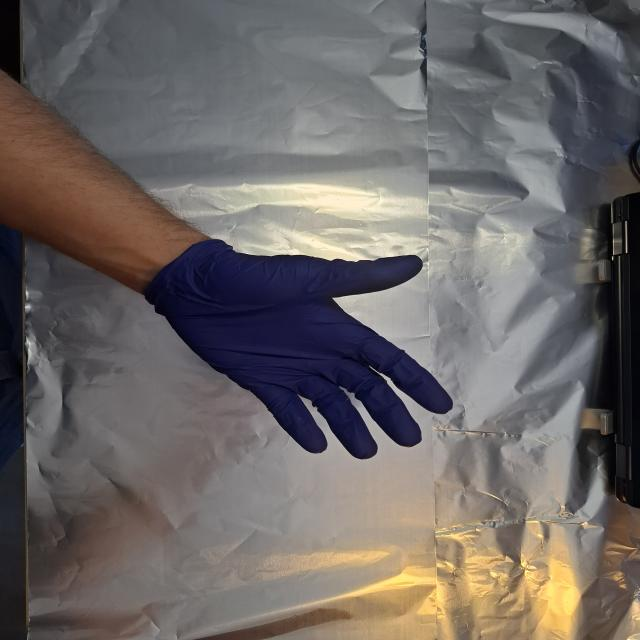glove_on: (146, 241, 456, 462)
